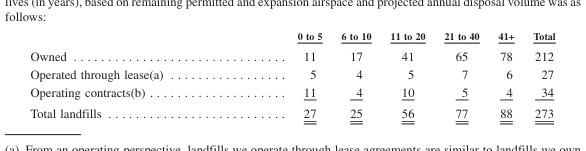table: (29, 29, 554, 119)
table column: (29, 29, 229, 119), (229, 29, 331, 119), (380, 29, 434, 119), (434, 29, 488, 119), (331, 29, 380, 119), (488, 29, 522, 119), (522, 29, 554, 119)
table column header: (29, 29, 554, 44)
table row: (29, 44, 554, 64), (29, 82, 554, 101), (29, 64, 554, 82), (29, 101, 554, 119), (29, 29, 554, 44)
